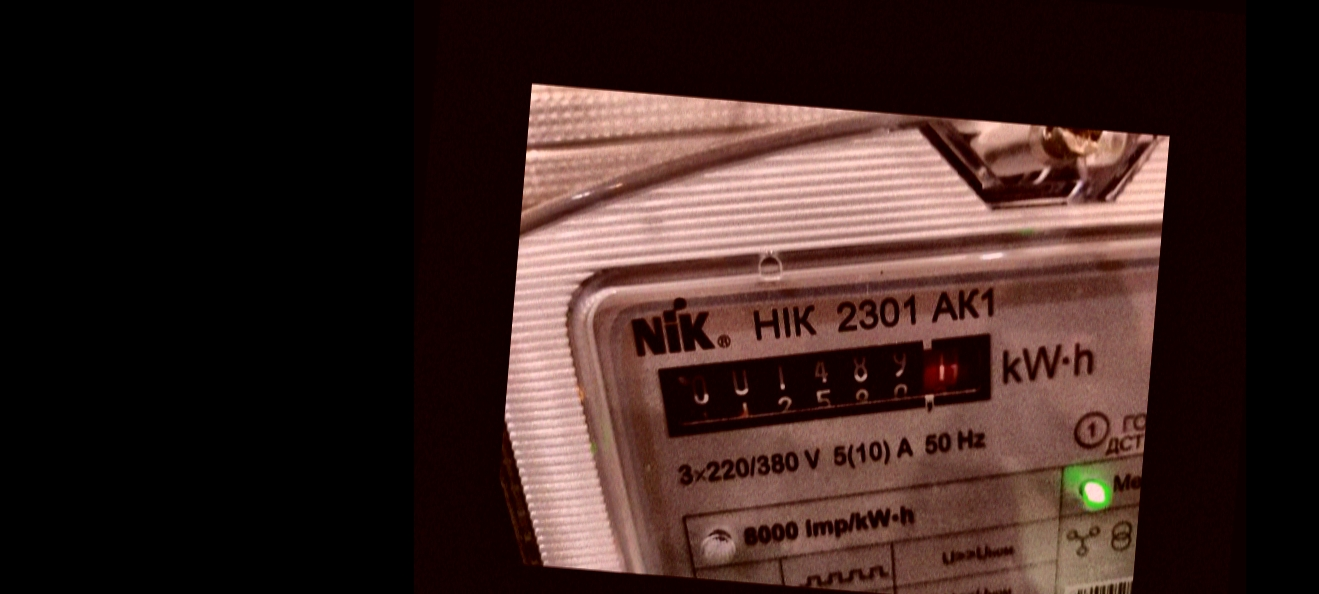0: (724, 360, 753, 399), (685, 371, 712, 408)
1: (929, 345, 951, 385), (769, 360, 791, 393)
4: (808, 353, 832, 386)
8: (848, 349, 872, 386)
9: (887, 346, 910, 379)
screen: (639, 296, 1025, 477)
